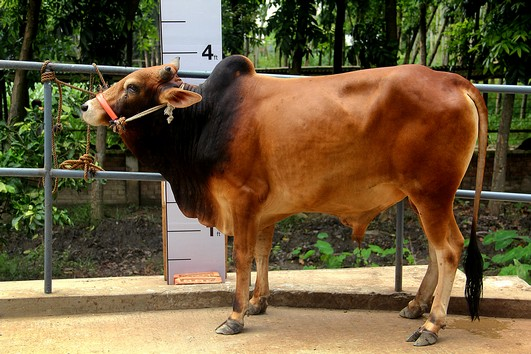cow: (79, 52, 488, 345)
